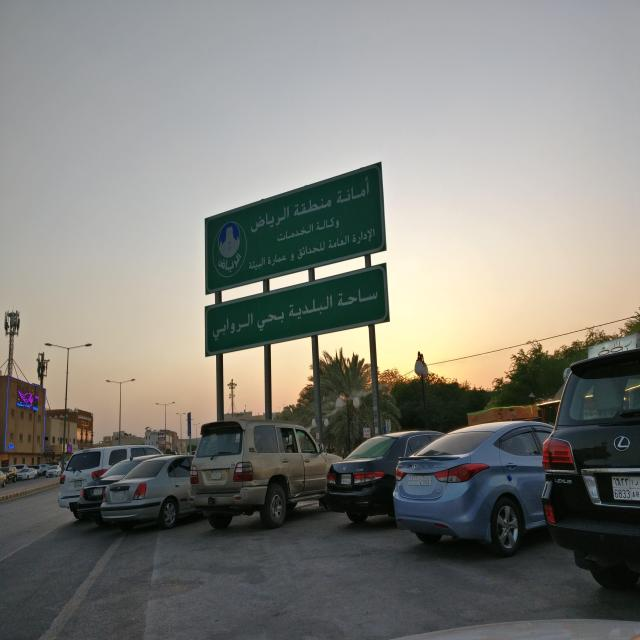license_plate: (609, 471, 640, 503), (407, 475, 432, 486), (210, 468, 224, 483), (340, 472, 352, 486), (114, 490, 126, 501), (92, 486, 103, 496)
